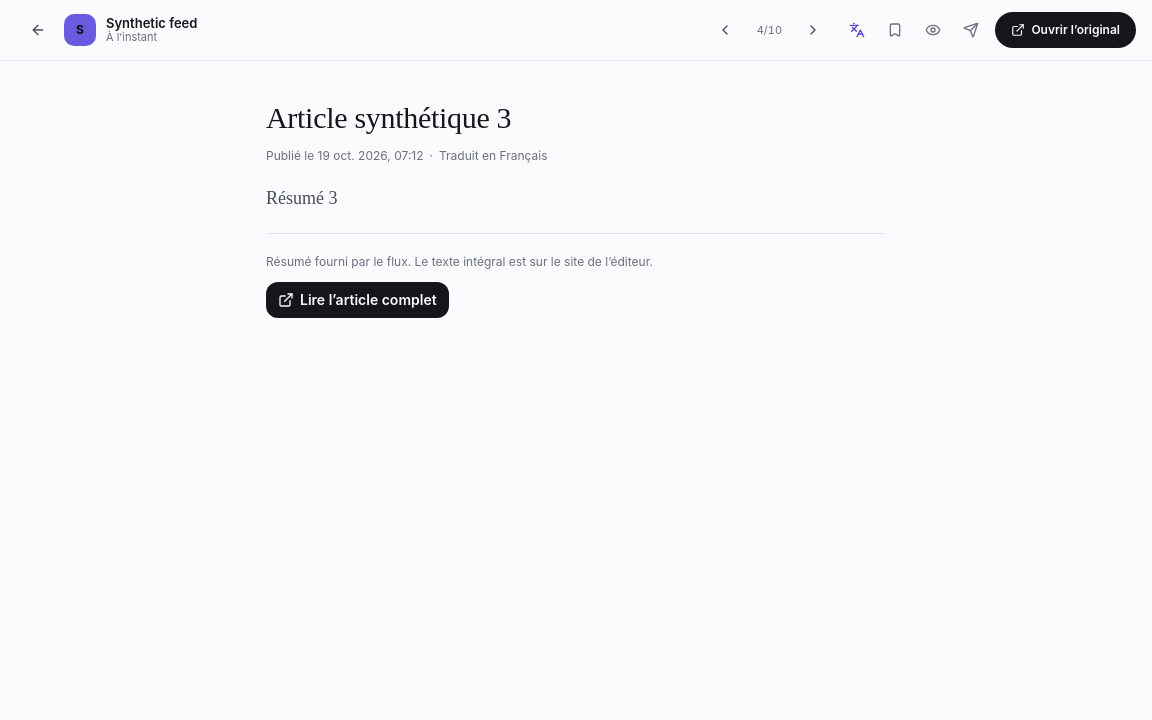
Test: RssReadingPane sharing › shares the translation while it is the version on screen
Click the button named "Partager la traduction" at point(971, 30), box [953,12,989,48]
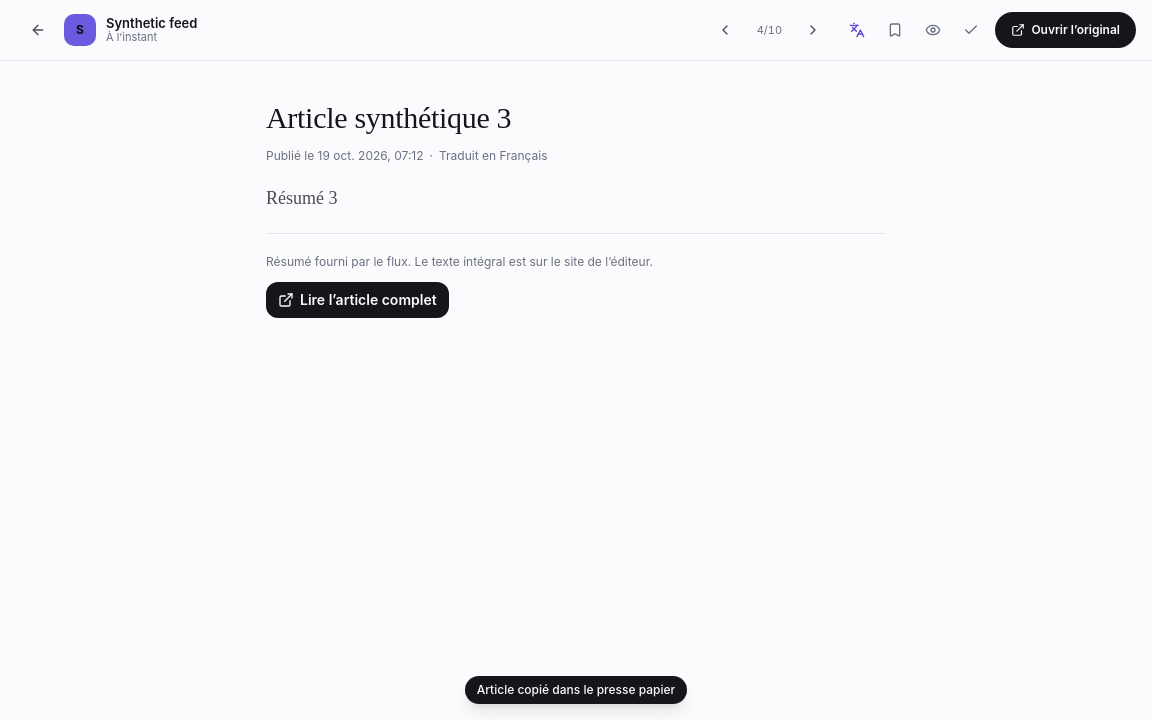
expect the text "Article copié dans le presse papier" is shown: met, box [465,676,687,704]
